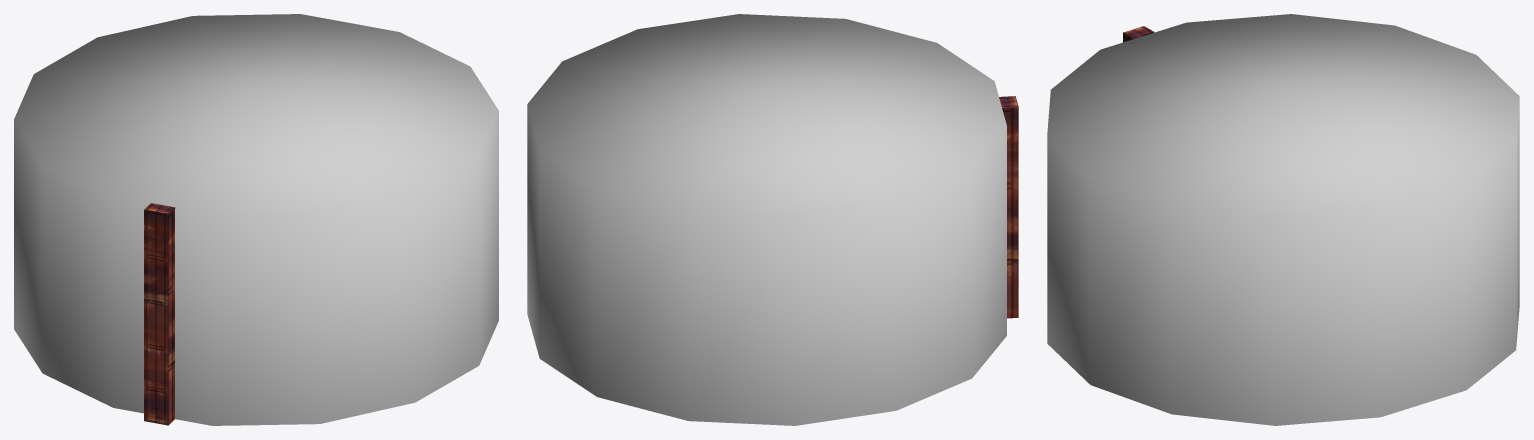
File: doc_tank_big.FBX
The picture shows the model from 3 angles, left to right: view 1: azimuth 30°, elevation 25°; view 2: azimuth 150°, elevation 25°; view 3: azimuth 270°, elevation 25°; orthographic projection.
Parts seen in each view (by area): view 1: Cylinder009, Box028; view 2: Cylinder009, Box028; view 3: Cylinder009.
Boxes of the visible parts, bbox=[...] form: Cylinder009: bbox=[14, 14, 498, 425]; Box028: bbox=[144, 203, 175, 425]; Cylinder009: bbox=[527, 14, 1006, 425]; Box028: bbox=[999, 96, 1018, 318]; Cylinder009: bbox=[1047, 14, 1519, 425].
Bounding box in the file's own units: 1367 × 723 × 1343.
